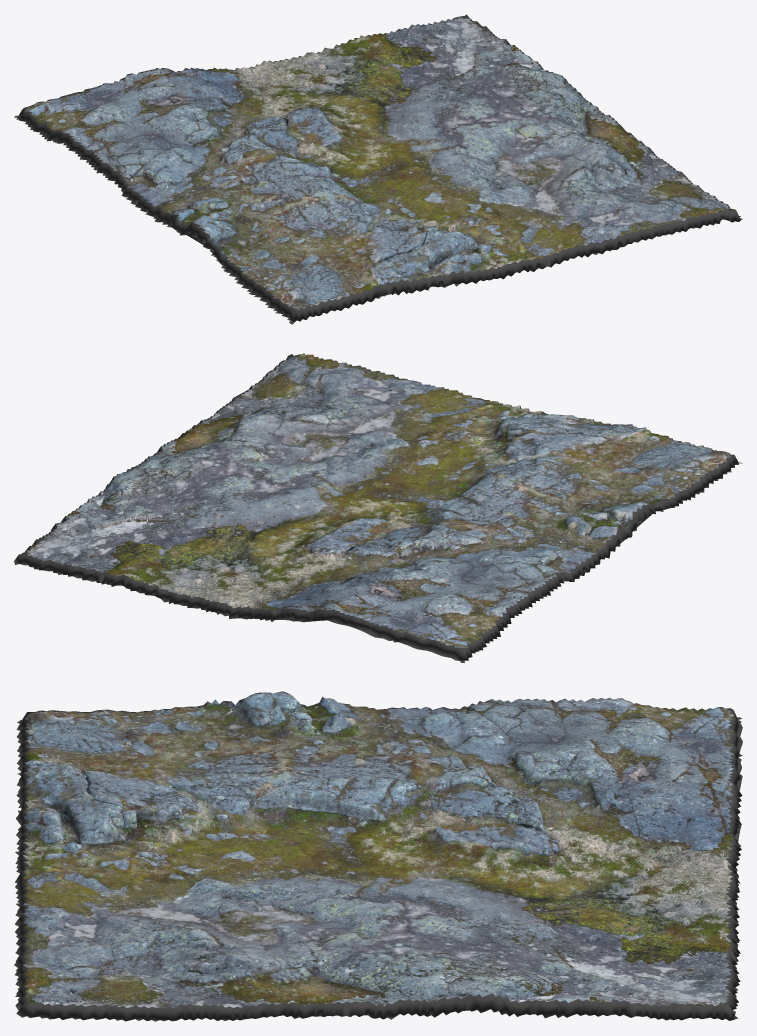
The model's file is lowpoly_rock_terrain.glb.
3 renders of one model, top to bottom at view 1: azimuth 30°, elevation 25°; view 2: azimuth 150°, elevation 25°; view 3: azimuth 270°, elevation 25°, orthographic. The views are drawn at different scales.
Visible parts, largest first — view 1: Object_2, Object_3; view 2: Object_2, Object_3; view 3: Object_2, Object_3.
Boxes of the visible parts, x1,y1,x2,y2 form: Object_2: (25, 16, 734, 309); Object_3: (14, 14, 742, 324); Object_2: (26, 353, 730, 647); Object_3: (14, 354, 742, 662); Object_2: (22, 691, 734, 1008); Object_3: (14, 692, 742, 1021).
Size of the model in its own units: 9.23 by 0.6934 by 9.78.
Materials: 2 (1 with a texture image).
